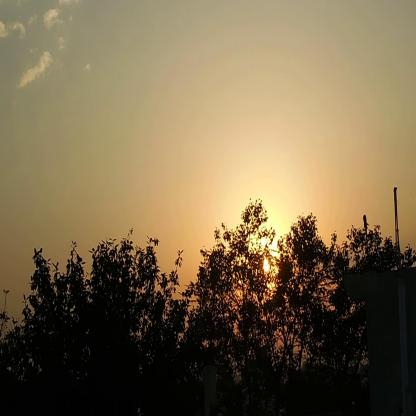other: (226, 186, 300, 292)
